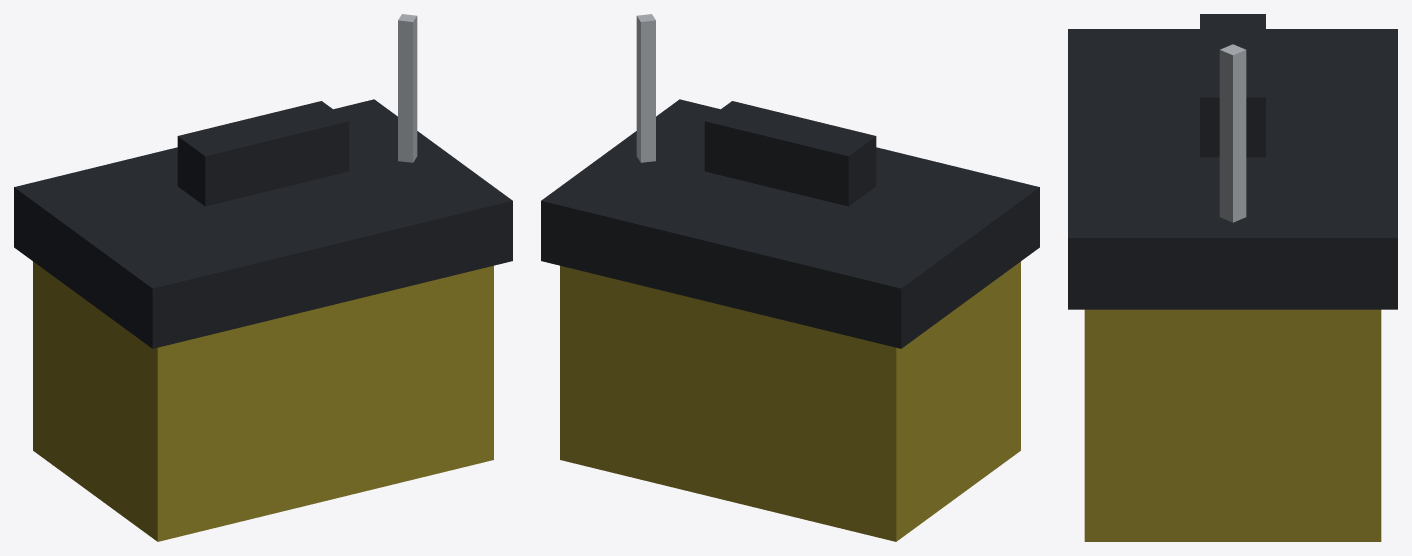
File: charge-fragmentation.glb
3 renders of one model, left to right at view 1: azimuth 30°, elevation 25°; view 2: azimuth 150°, elevation 25°; view 3: azimuth 270°, elevation 25°, orthographic. The views are drawn at different scales.
Parts seen in each view (by area): view 1: m; view 2: m; view 3: m.
Part boxes in pixels (bbox=[...]): m: bbox=[14, 14, 512, 541]; m: bbox=[541, 14, 1039, 541]; m: bbox=[1068, 14, 1397, 541].
Size of the model in its own units: 0.075 by 0.08 by 0.05.
